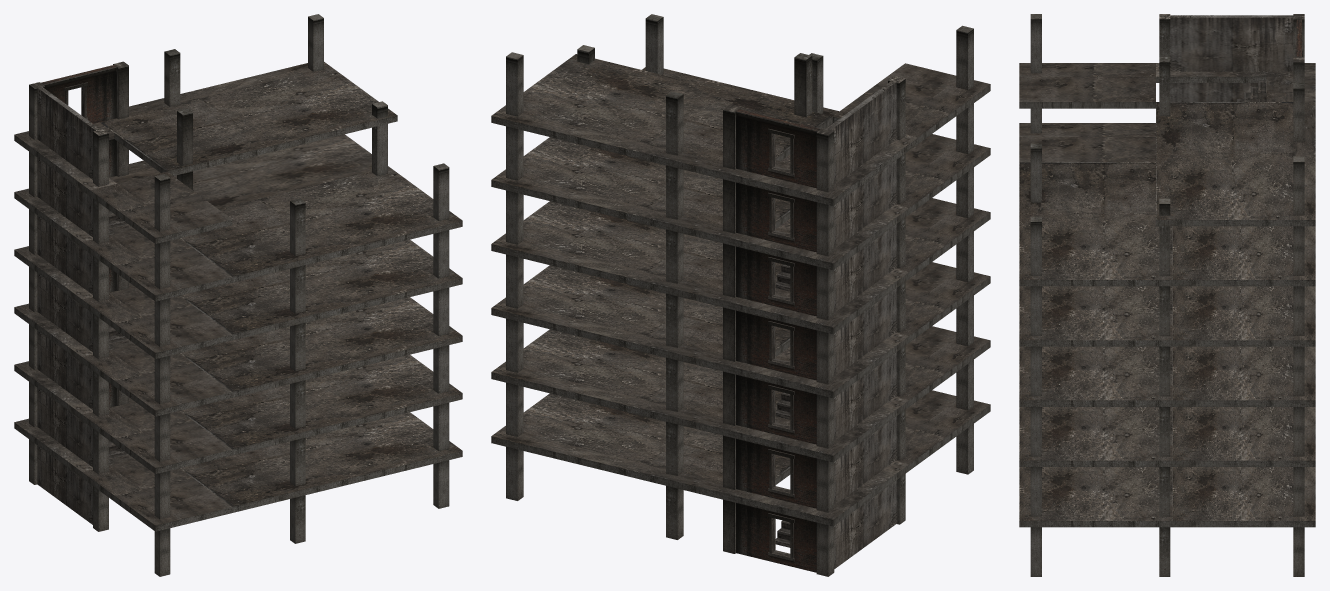
3 renders of one model, left to right at view 1: azimuth 30°, elevation 25°; view 2: azimuth 150°, elevation 25°; view 3: azimuth 270°, elevation 25°, orthographic. The views are drawn at different scales.
Parts seen in each view (by area): view 1: B010; view 2: B010; view 3: B010.
Boxes of the visible parts, x1,y1,x2,y2 form: B010: (14,14,462,576); B010: (491,14,990,576); B010: (1019,14,1315,576).
Bounding box in the file's own units: 6.64 × 8.2 × 5.3.
1 material, 1 textured.
